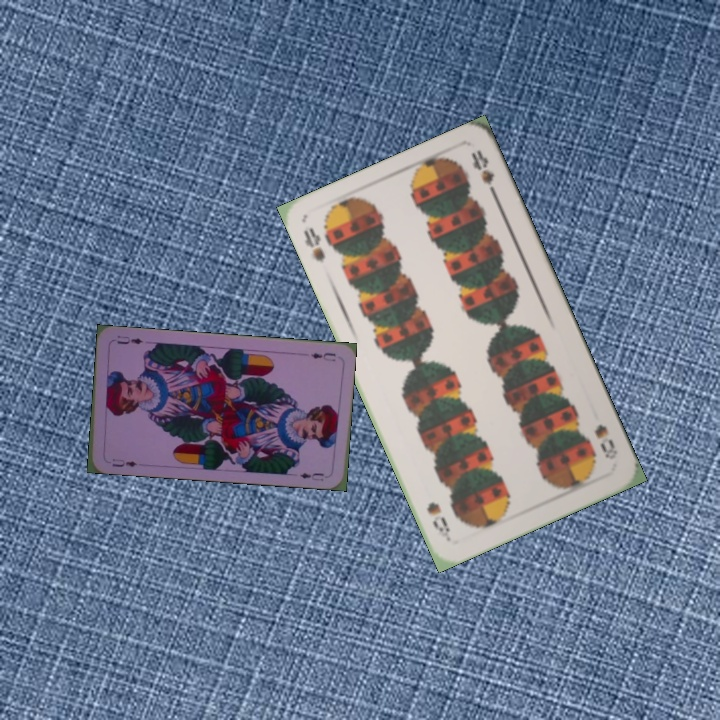EU: (307, 348, 338, 364), (108, 455, 140, 470)
S8: (590, 420, 620, 462), (299, 223, 328, 266)
